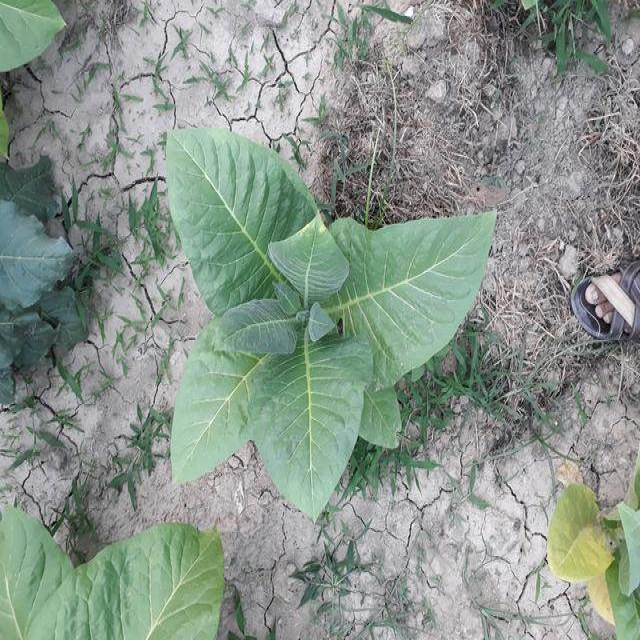crop: (162, 134, 496, 504), (0, 505, 222, 640), (550, 479, 640, 640), (2, 199, 78, 384), (0, 3, 65, 76)
